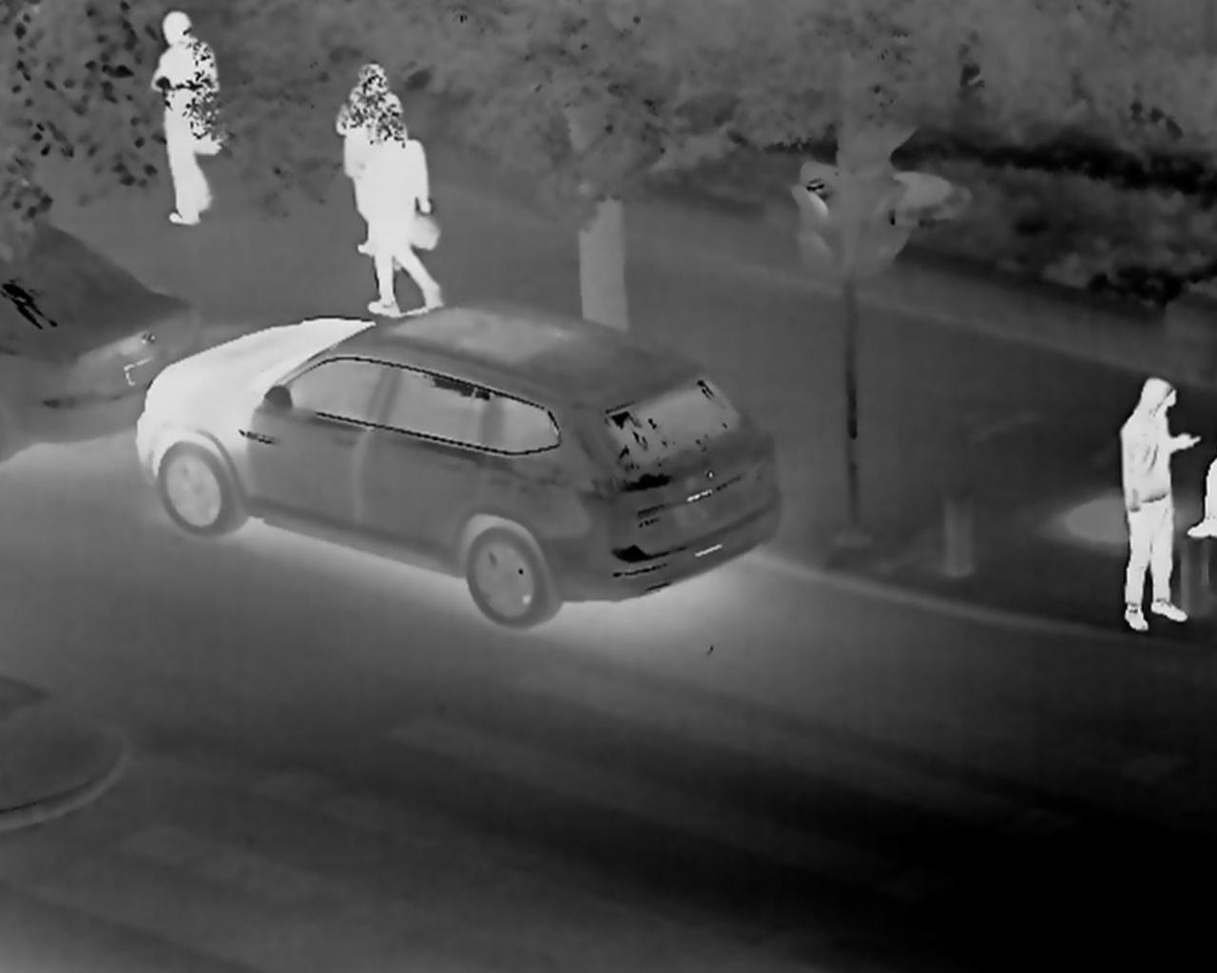person: (355, 88, 445, 316), (334, 58, 427, 265), (1114, 370, 1186, 632), (150, 8, 222, 228)
